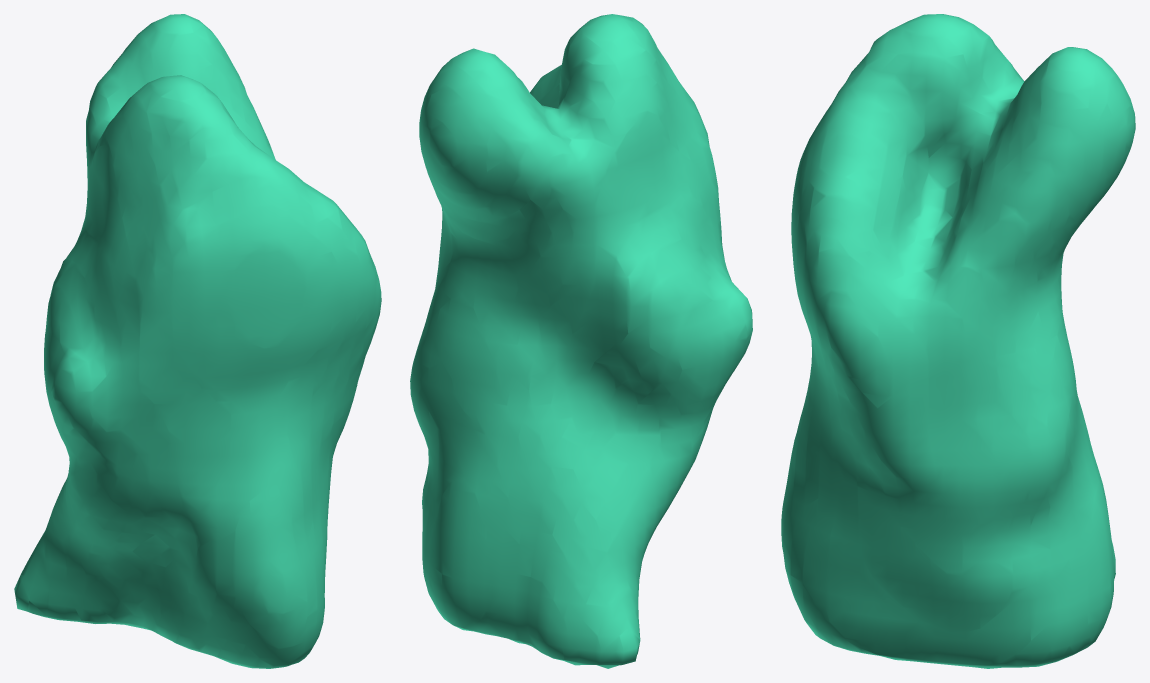
The picture shows the model from 3 angles, left to right: view 1: azimuth 30°, elevation 25°; view 2: azimuth 150°, elevation 25°; view 3: azimuth 270°, elevation 25°; orthographic projection. The views are drawn at different scales.
Parts seen in each view (by area): view 1: Liquid_Domain; view 2: Liquid_Domain; view 3: Liquid_Domain.
Part boxes in pixels (left/top/right/bottom): Liquid_Domain: left=14, top=14, right=381, bottom=668; Liquid_Domain: left=410, top=14, right=752, bottom=668; Liquid_Domain: left=781, top=14, right=1135, bottom=668.
Size of the model in its own units: 3.07 by 5.75 by 3.09.
